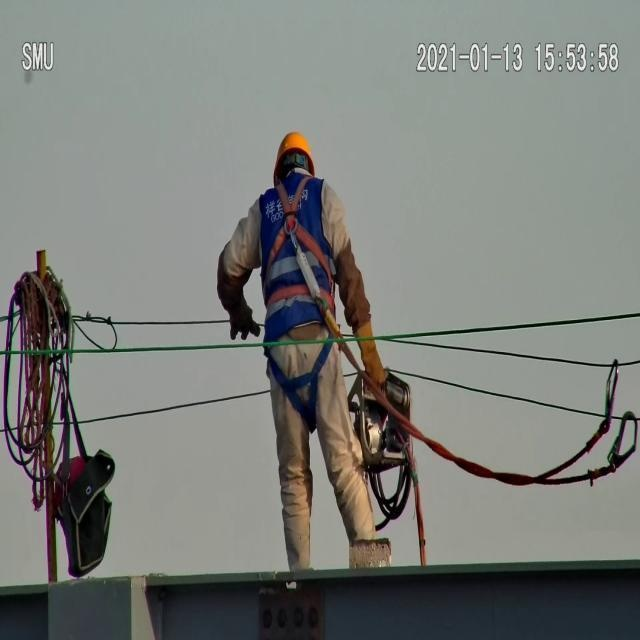Arnes_seguridad: (253, 173, 341, 350)
